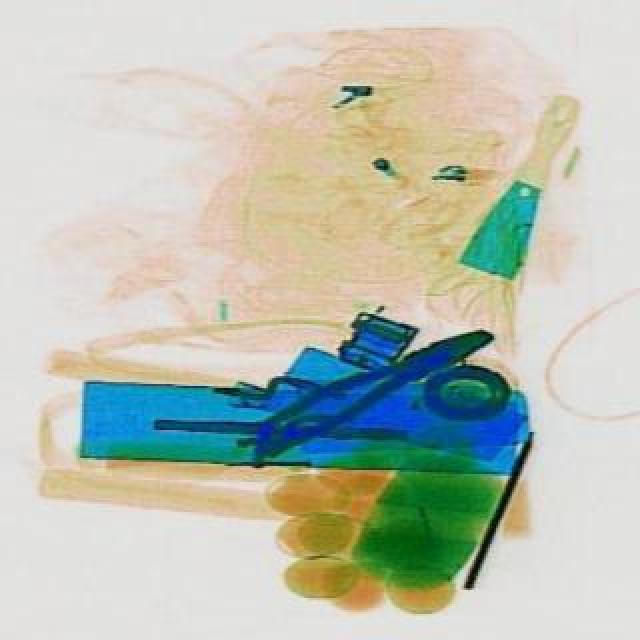wrench: (240, 318, 502, 468)
